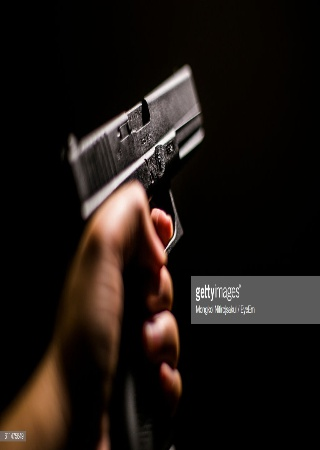handgun: (62, 48, 207, 449)
